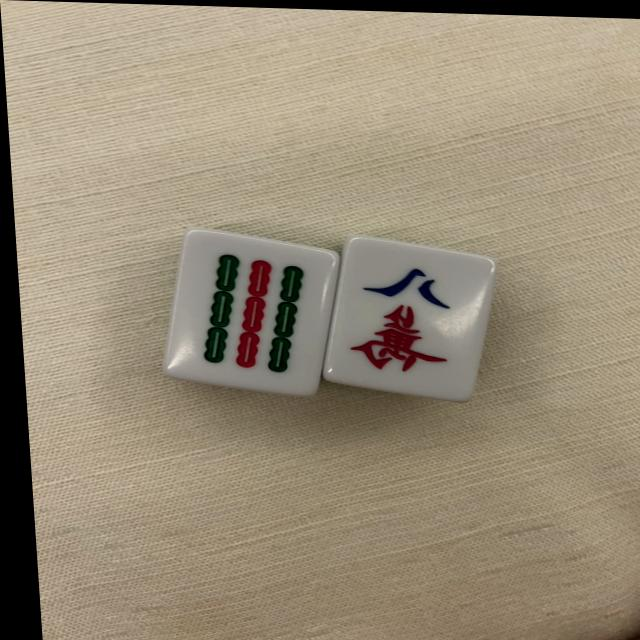m8: (314, 236, 505, 405)
s9: (156, 228, 348, 399)
